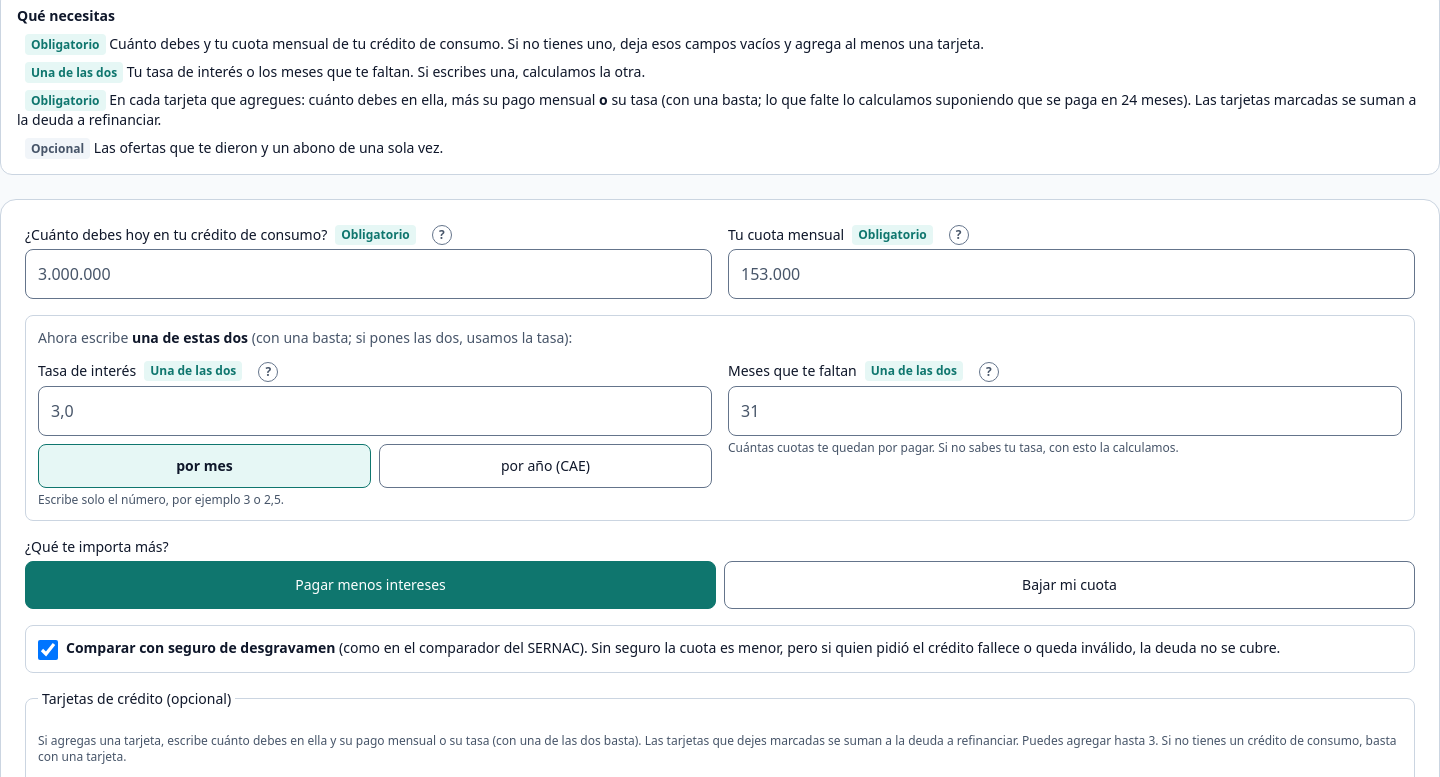
it: Resultado › crédito al 0%: explica que no hay nada que renegociar
Type "1000000" into the field labelled "¿Cuánto debes hoy en tu crédito de consumo?".
click(368, 274); type("1000000")  # box [25, 249, 712, 299]
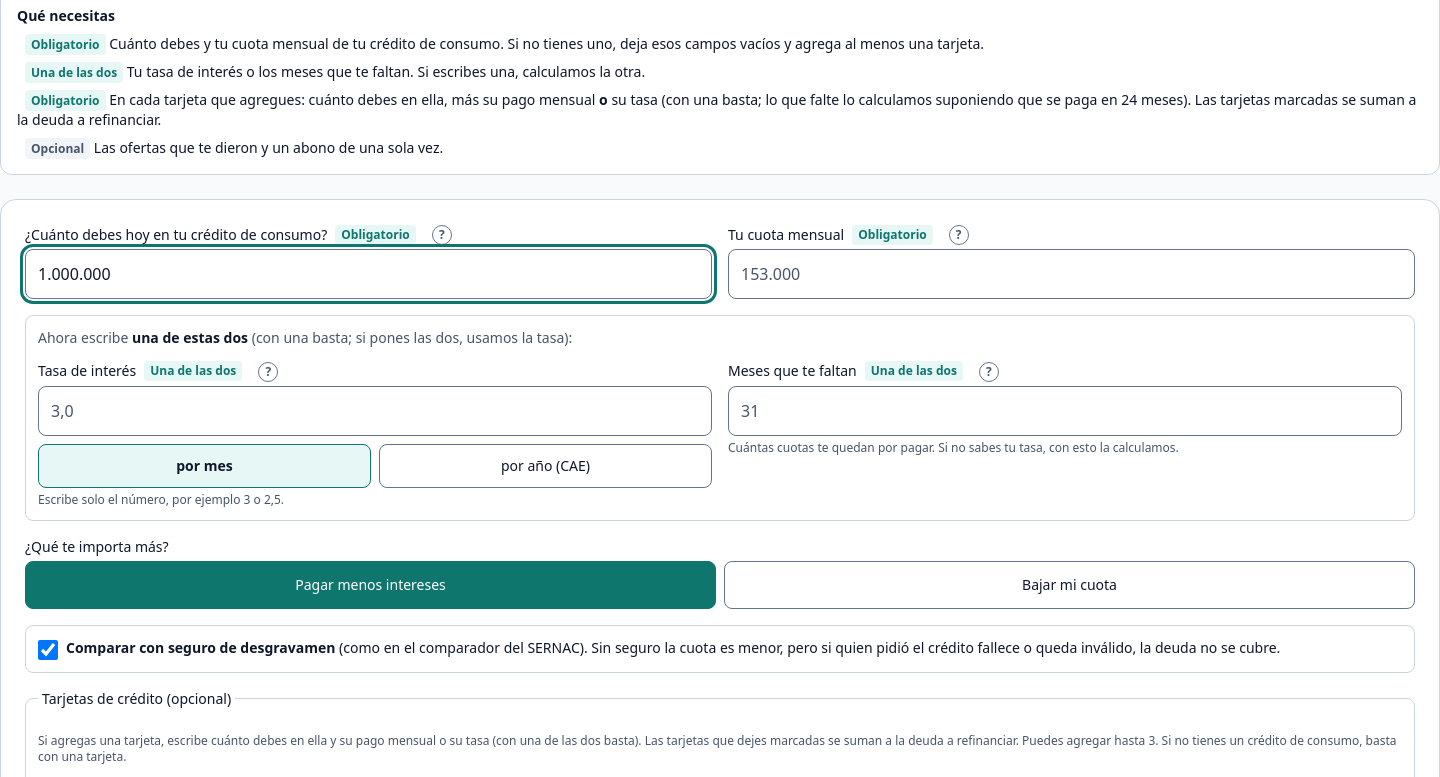
Type "100000" into the field labelled "Tu cuota mensual".
click(1072, 274); type("100000")  # box [728, 249, 1415, 299]
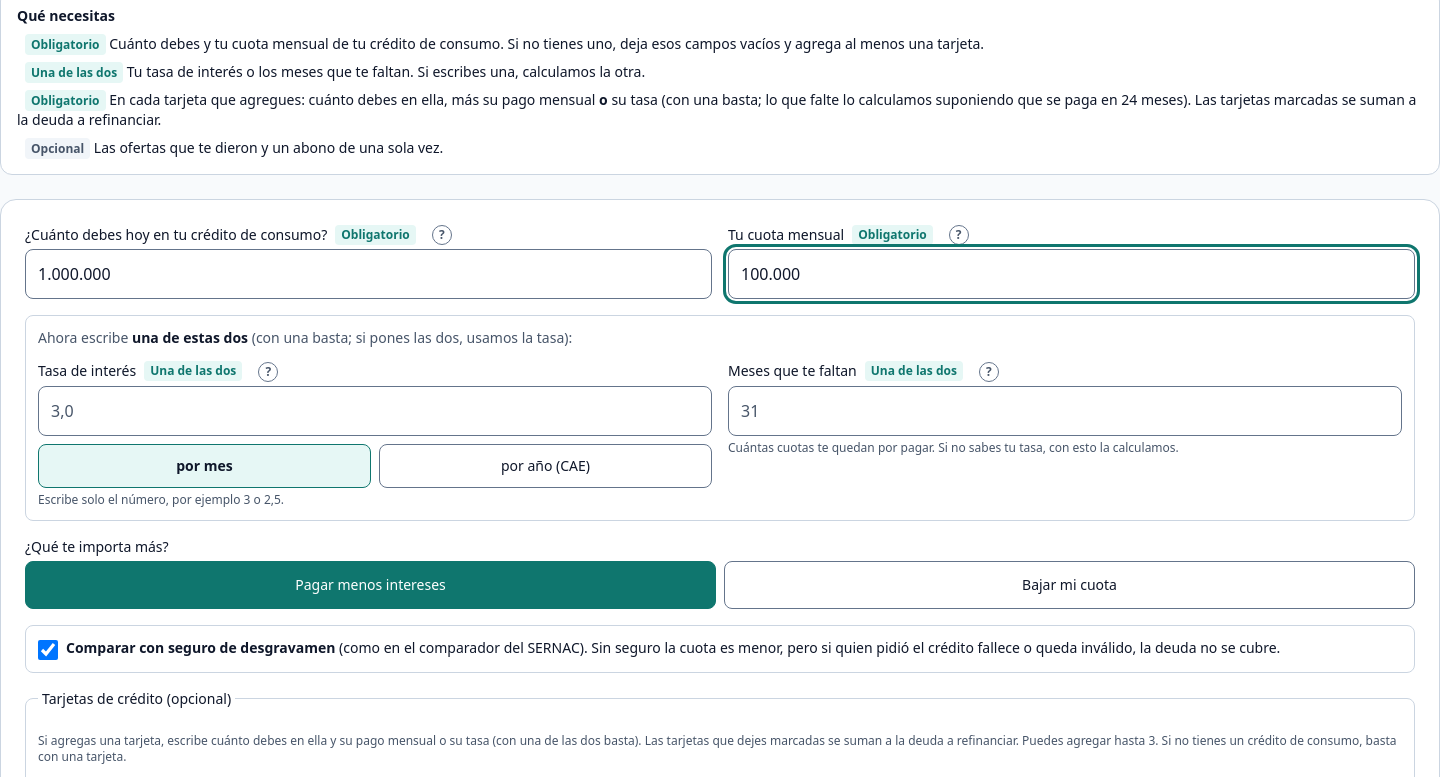
Type "0" into the field labelled "Tasa de interés".
click(375, 410); type("0")  # box [38, 386, 712, 436]
(page scrolled)
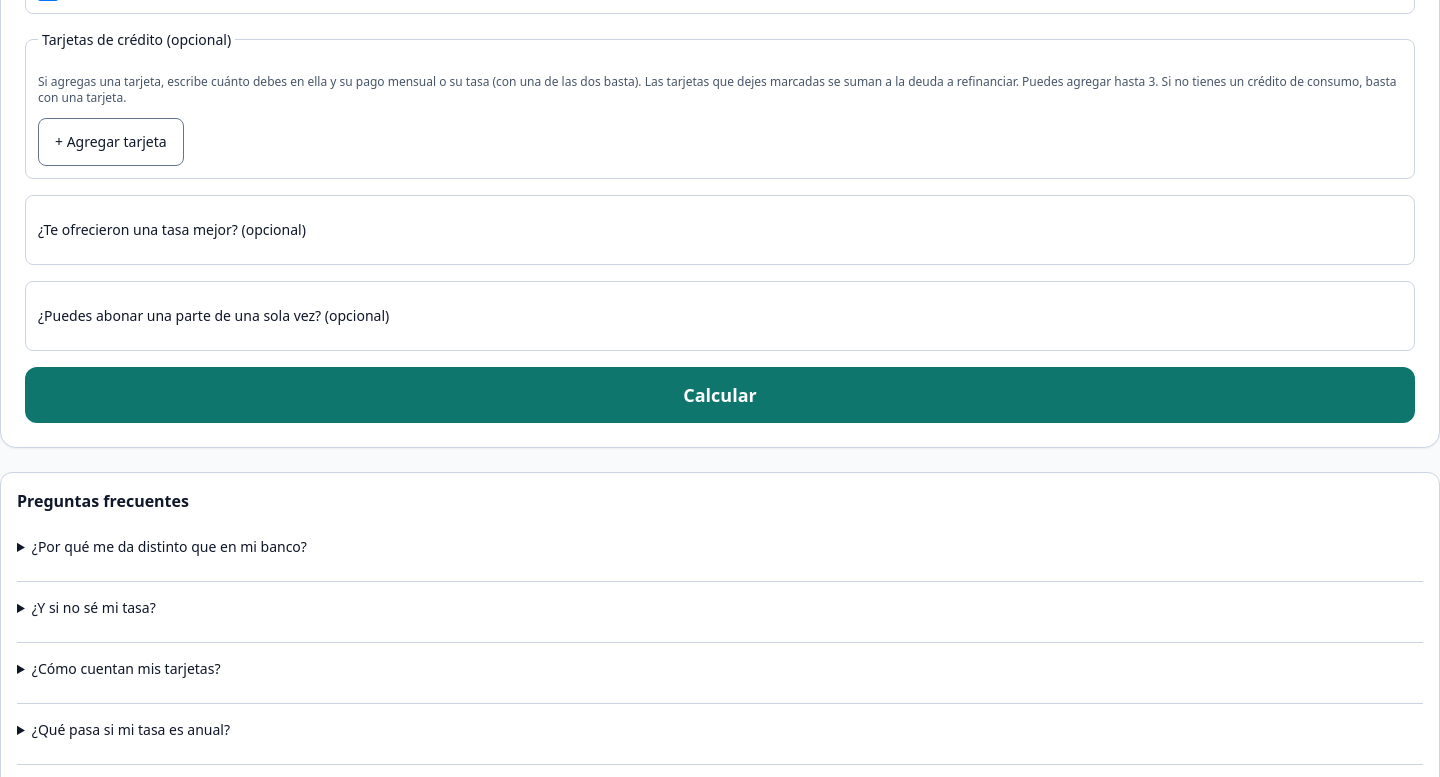
Click the button "Calcular".
click(720, 394)  # box [25, 366, 1415, 422]
(page scrolled)
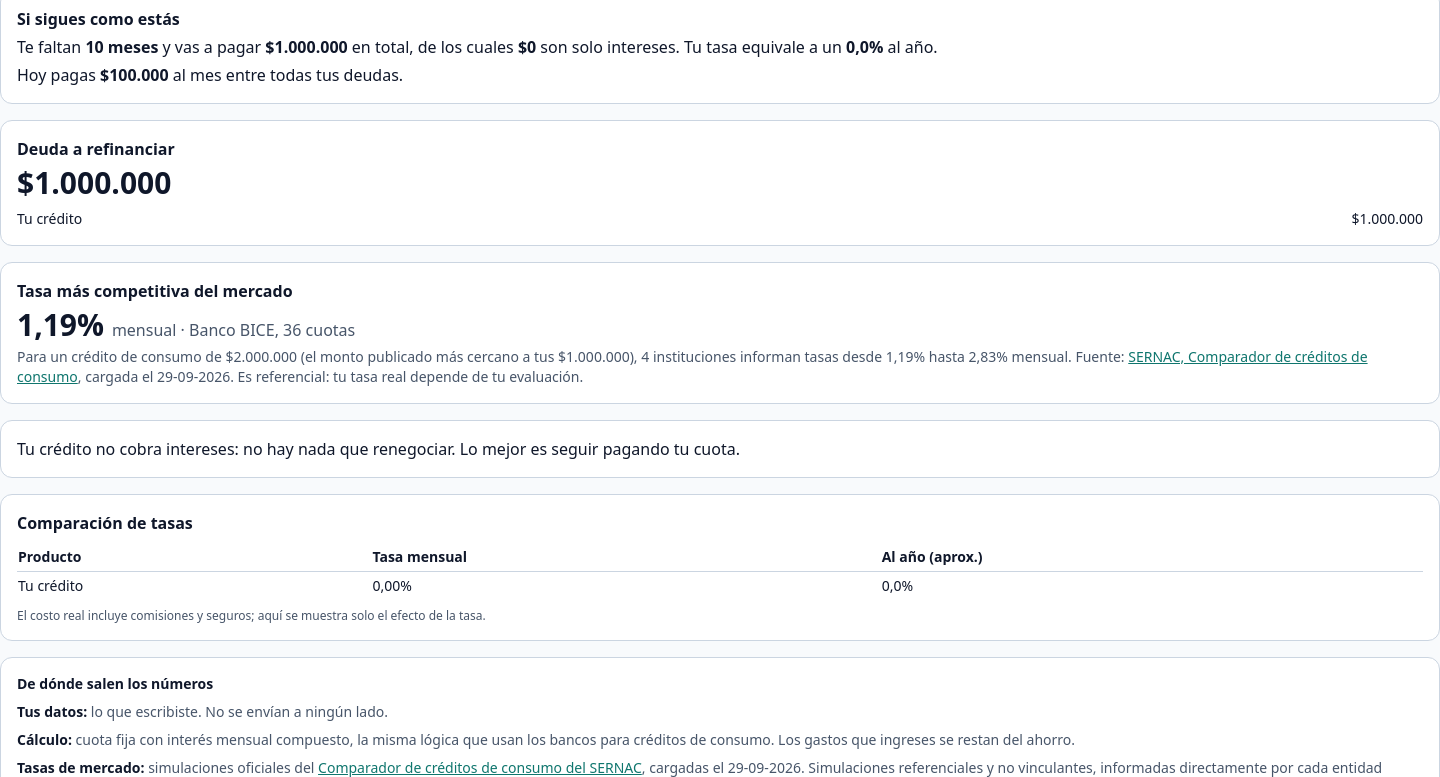
Result: the text "no cobra intereses" is shown at [17, 438, 740, 460]
